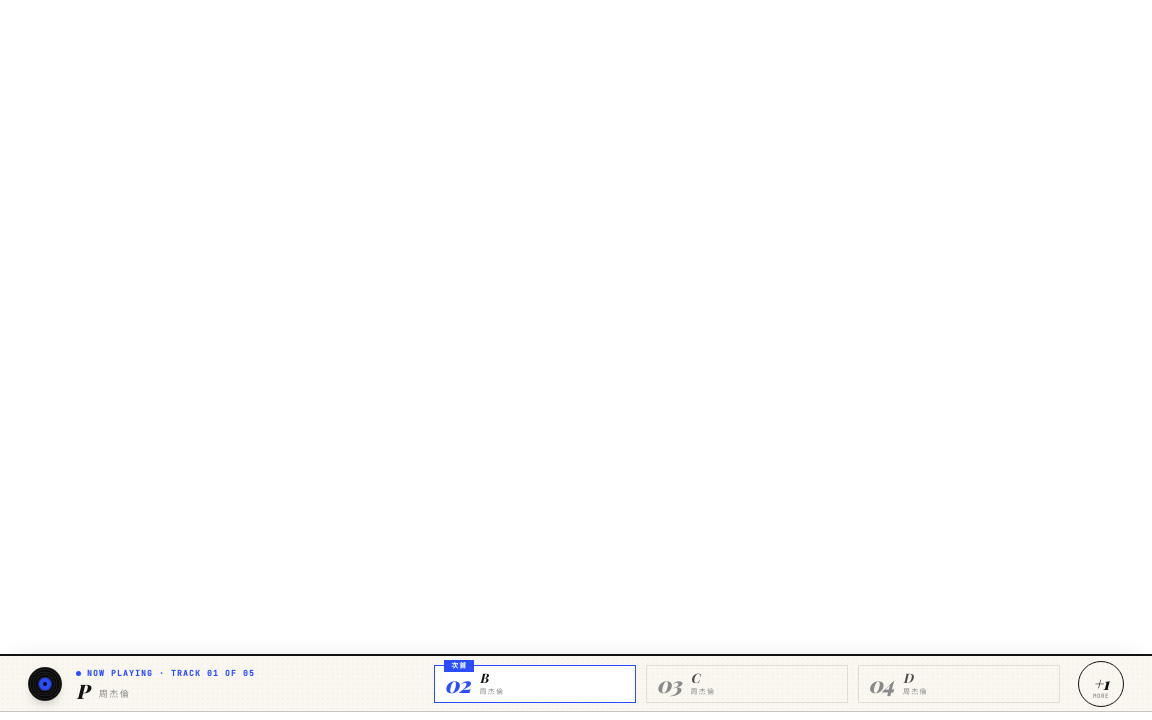
UpNextBar › 點 +N 會打開完整待播清單
The image size is (1152, 720).
Click the button with aria-label "查看完整待播清單，共 4 首".
click(1101, 684)  # box [1078,661,1124,707]
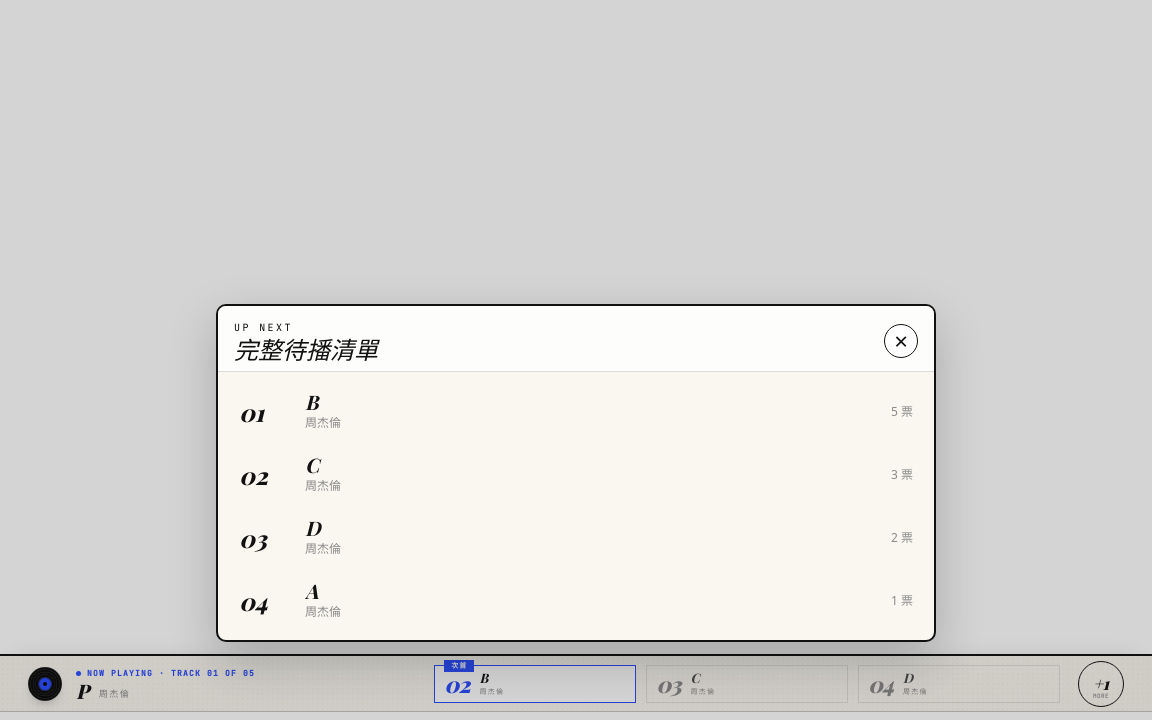
Expected: the dialog "完整待播清單" is shown, [216,304,936,642]
Expected: the text "D" is shown, [305,514,320,541]
